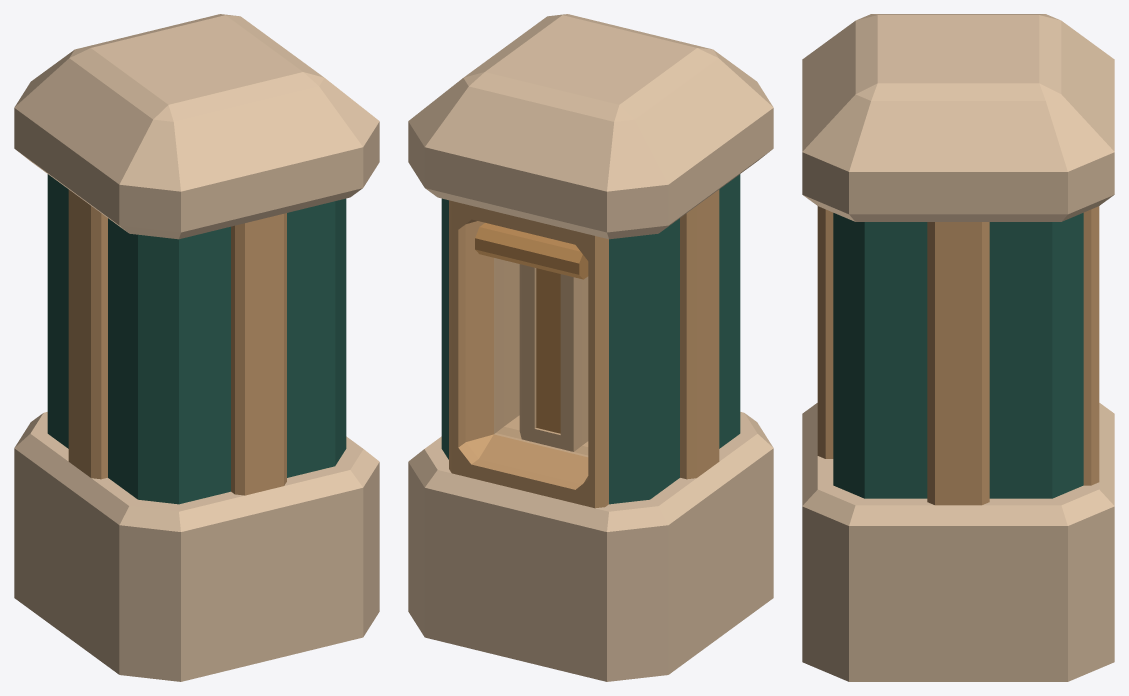
Rendered from Puzzle_Control_Rising_Switch.fbx.
3 renders of one model, left to right at view 1: azimuth 30°, elevation 25°; view 2: azimuth 150°, elevation 25°; view 3: azimuth 270°, elevation 25°, orthographic. The views are drawn at different scales.
Parts seen in each view (by area): view 1: Sandstone_Trim.Sandstone_Trim.Sandstone_Trim.Sandstone_Trim., object1, Sandstone_5.Sandstone_5.Sandstone_5.Sandstone_5.Sandstone_5.; view 2: Sandstone_Trim.Sandstone_Trim.Sandstone_Trim.Sandstone_Trim., Sandstone_5.Sandstone_5.Sandstone_5.Sandstone_5.Sandstone_5., object1, Sandstone_4.Sandstone_4.Sandstone_4.object3, Sandstone_6, Sandstone_6.Sandstone_6.Sandstone_6.Sandstone_6.object2; view 3: Sandstone_Trim.Sandstone_Trim.Sandstone_Trim.Sandstone_Trim., object1, Sandstone_5.Sandstone_5.Sandstone_5.Sandstone_5.Sandstone_5..
Boxes of the visible parts, <box> form: Sandstone_Trim.Sandstone_Trim.Sandstone_Trim.Sandstone_Trim.: <box>14,14,379,681</box>; object1: <box>47,174,346,504</box>; Sandstone_5.Sandstone_5.Sandstone_5.Sandstone_5.Sandstone_5.: <box>68,189,286,495</box>; Sandstone_Trim.Sandstone_Trim.Sandstone_Trim.Sandstone_Trim.: <box>408,14,773,681</box>; Sandstone_5.Sandstone_5.Sandstone_5.Sandstone_5.Sandstone_5.: <box>449,189,719,508</box>; object1: <box>441,174,740,504</box>; Sandstone_4.Sandstone_4.Sandstone_4.object3: <box>494,258,588,457</box>; Sandstone_6: <box>536,268,560,433</box>; Sandstone_6.Sandstone_6.Sandstone_6.Sandstone_6.object2: <box>475,223,588,279</box>; Sandstone_Trim.Sandstone_Trim.Sandstone_Trim.Sandstone_Trim.: <box>802,14,1114,681</box>; object1: <box>833,213,1083,498</box>; Sandstone_5.Sandstone_5.Sandstone_5.Sandstone_5.Sandstone_5.: <box>817,206,1099,505</box>.
Size of the model in its own units: 0.5 by 1 by 0.5.
